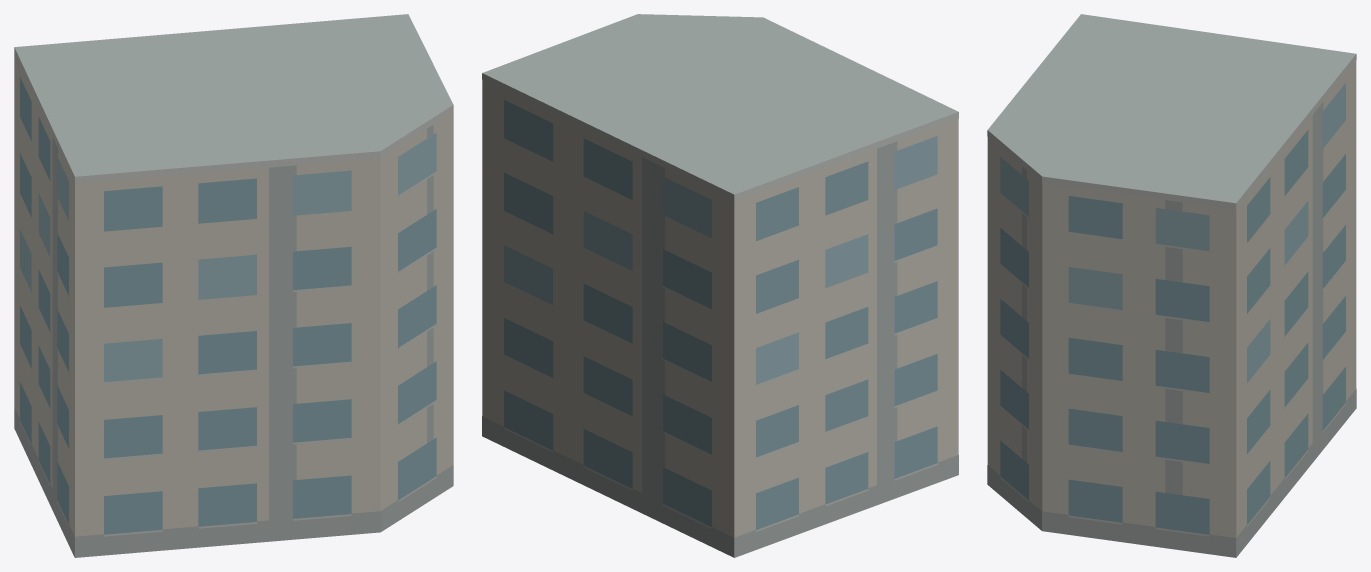
The model's file is survey-upis-32953243.glb.
3 renders of one model, left to right at view 1: azimuth 30°, elevation 25°; view 2: azimuth 150°, elevation 25°; view 3: azimuth 270°, elevation 25°, orthographic. The views are drawn at different scales.
Visible parts, largest first — view 1: survey-upis-32953243.tmp; view 2: survey-upis-32953243.tmp; view 3: survey-upis-32953243.tmp.
Boxes of the visible parts, x1,y1,x2,y2 form: survey-upis-32953243.tmp: [14, 14, 453, 557]; survey-upis-32953243.tmp: [482, 14, 958, 557]; survey-upis-32953243.tmp: [987, 14, 1356, 557].
Size of the model in its own units: 15 by 13.1 by 12.36.
